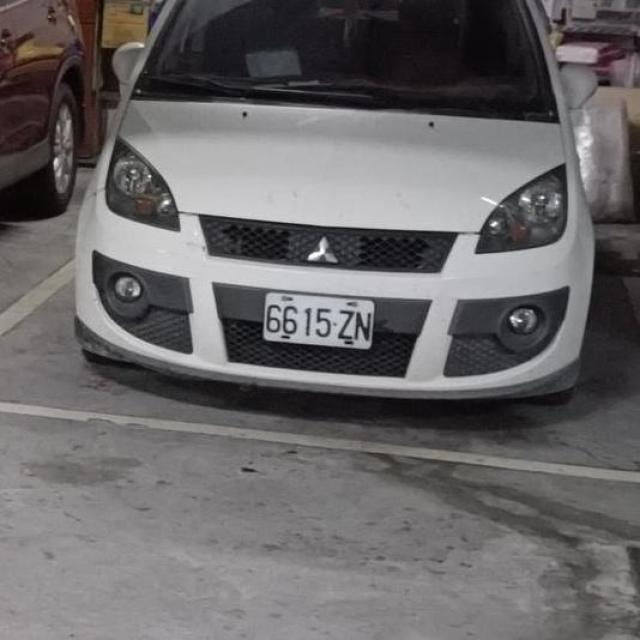W: (258, 286, 381, 350)
